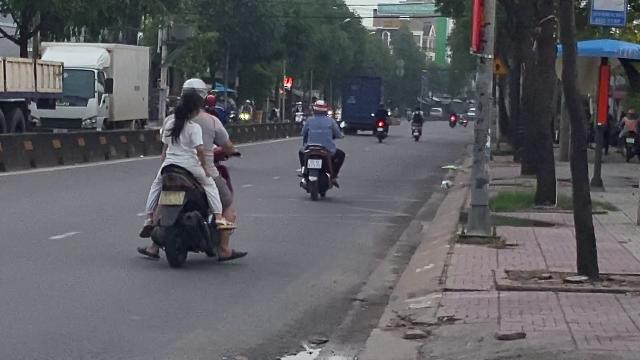helmet: (180, 78, 206, 92), (313, 101, 329, 119)
licenseplate: (159, 190, 183, 204), (308, 160, 322, 168)
motorcyclist: (138, 76, 242, 268), (296, 100, 346, 200)
nohelmet: (177, 90, 205, 118)
